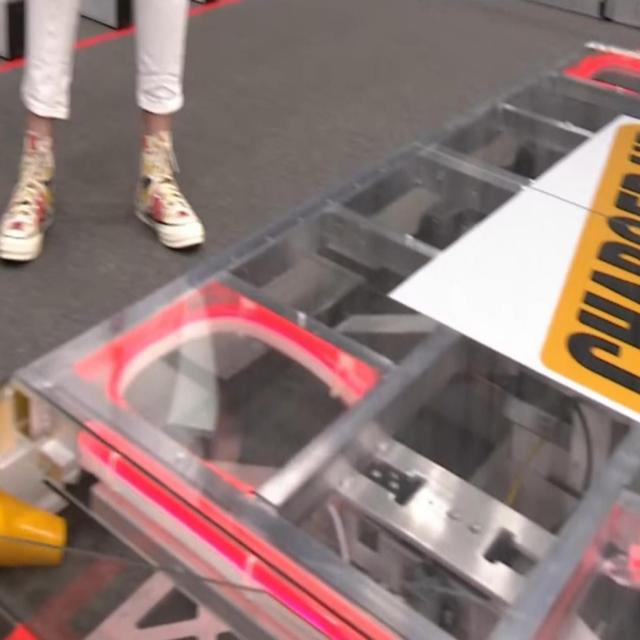frc_cone: (0, 490, 72, 572)
